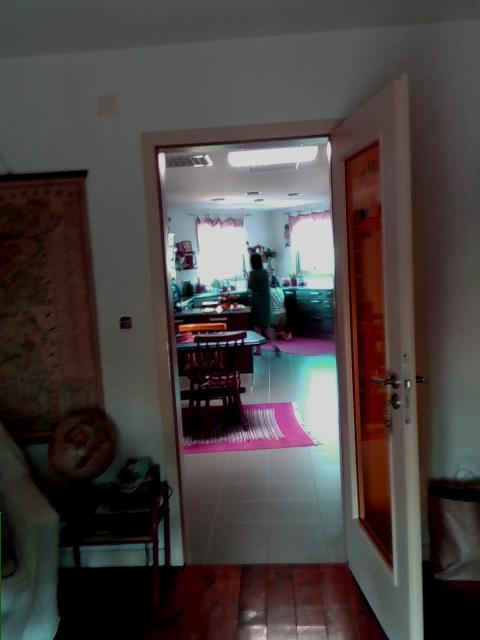open_door: (139, 114, 360, 564)
